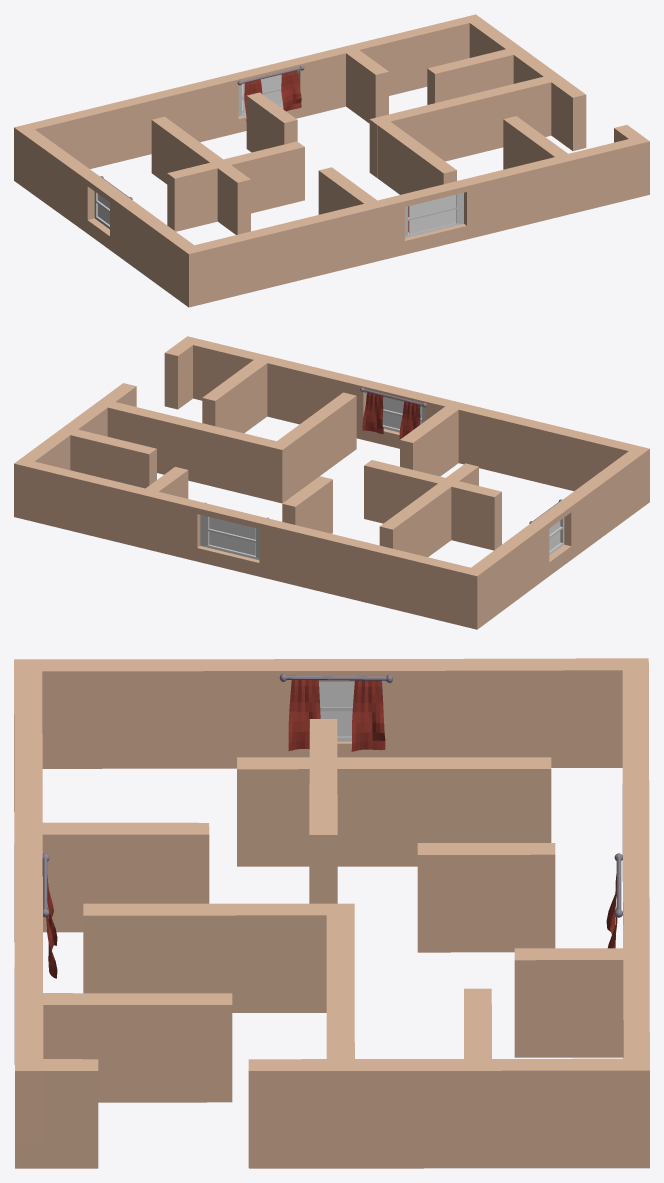
Rendered from Level 4.fbx.
3 views of the same model, one above another, from view 1: azimuth 30°, elevation 25°; view 2: azimuth 150°, elevation 25°; view 3: azimuth 270°, elevation 25° (orthographic). The views are drawn at different scales.
Visible parts, largest first — view 1: polySurface73, polySurface50, pasted__wind1, pasted__pasted__clowt1; view 2: polySurface73, pasted__wind1, polySurface50, pasted__pasted__clowt1; view 3: polySurface73, pasted__pasted__clowt1, pasted__wind1, polySurface50.
Part boxes in pixels (bbox=[...]): polySurface73: bbox=[14, 14, 649, 307]; polySurface50: bbox=[237, 66, 304, 121]; pasted__wind1: bbox=[405, 192, 463, 238]; pasted__pasted__clowt1: bbox=[94, 176, 132, 229]; polySurface73: bbox=[14, 336, 649, 629]; pasted__wind1: bbox=[360, 387, 426, 439]; polySurface50: bbox=[200, 502, 268, 559]; pasted__pasted__clowt1: bbox=[529, 499, 564, 555]; polySurface73: bbox=[14, 658, 649, 1168]; pasted__pasted__clowt1: bbox=[279, 673, 392, 751]; pasted__wind1: bbox=[42, 853, 57, 978]; polySurface50: bbox=[606, 853, 622, 948].
Size of the model in its own units: 154 by 16.93 by 99.98.
